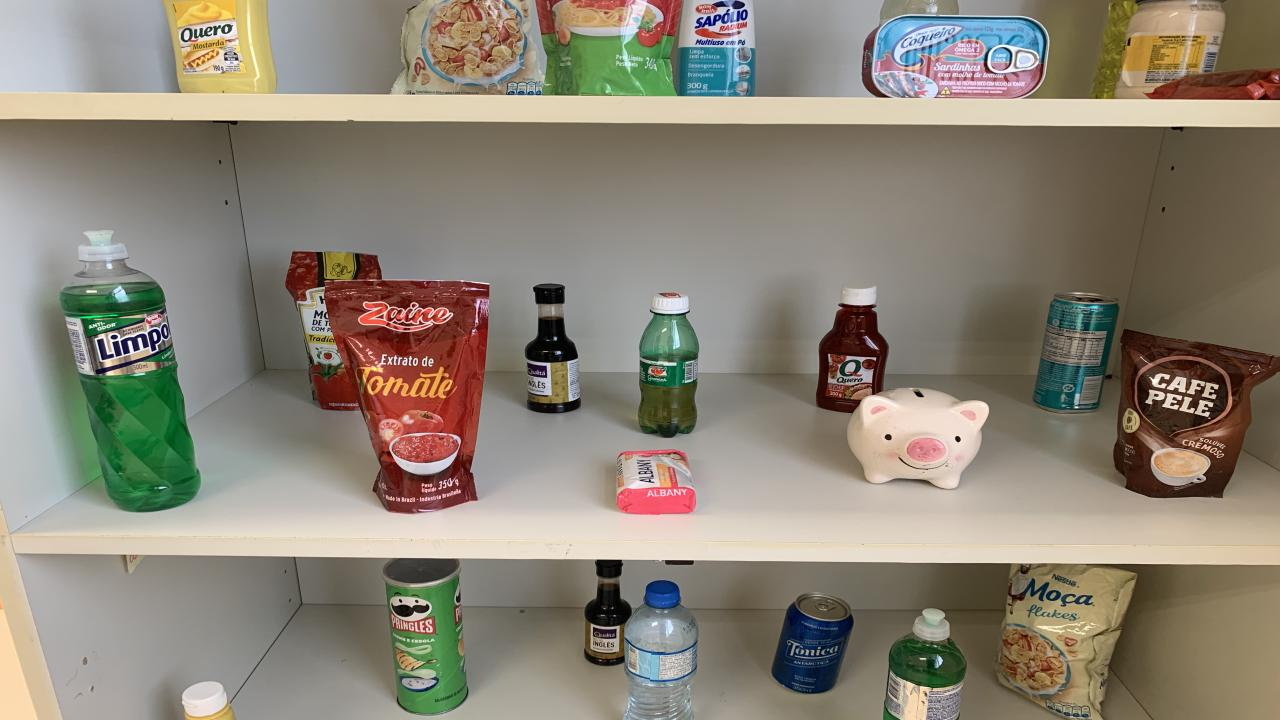Cleaner-Cleanup_Items: (678, 0, 755, 96)
Coffee-Pantry_Items: (1115, 330, 1280, 497)
Detergent-Cleanup_Items: (60, 257, 200, 512), (882, 609, 968, 720)
English_Sauce-Pantry_Items: (525, 285, 580, 412), (585, 561, 632, 666)
Flakes-Snacks: (995, 564, 1138, 720), (392, 0, 545, 96)
Guarana-Drinks: (638, 292, 700, 437)
Guava-Snacks: (1148, 69, 1280, 99)
Ketchup-Pantry_Items: (815, 287, 888, 412)
Mayonnaise-Pantry_Items: (1100, 0, 1225, 98)
Mustard-Pantry_Items: (165, 0, 278, 94), (182, 682, 235, 720)
Pig_Safe-Miscellaneous: (848, 388, 990, 489)
Pringles-Snacks: (385, 559, 468, 714)
Soap-Cleanup_Items: (618, 450, 695, 514)
Tea-Drinks: (1032, 292, 1118, 412)
Tomato_Sauce-Pantry_Items: (325, 279, 490, 514), (285, 251, 382, 411), (538, 0, 680, 96)
Tonic-Drinks: (772, 592, 852, 694)
Tuna_Can-Pantry_Items: (862, 15, 1050, 98)
Water_Bottle-Drinks: (625, 579, 698, 720)
